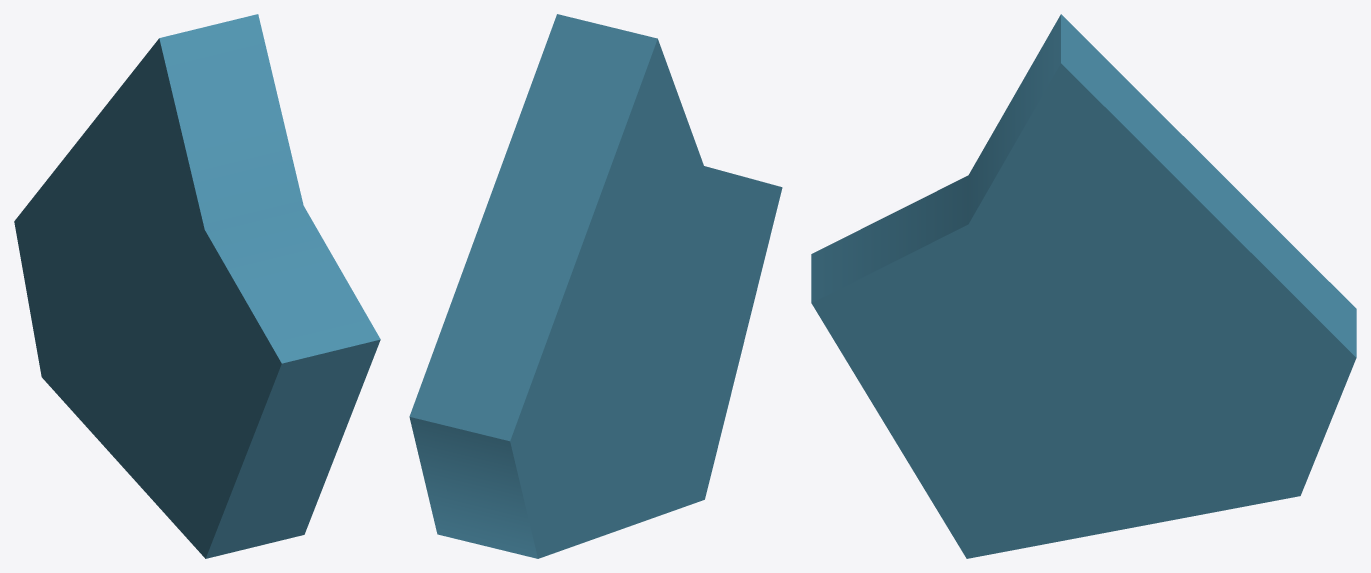
The model's file is NexusC_Trigger_4.fbx.
3 renders of one model, left to right at view 1: azimuth 30°, elevation 25°; view 2: azimuth 150°, elevation 25°; view 3: azimuth 270°, elevation 25°, orthographic.
Parts seen in each view (by area): view 1: polySurface64; view 2: polySurface64; view 3: polySurface64.
Boxes of the visible parts, x1,y1,x2,y2 form: polySurface64: (14, 14, 380, 558); polySurface64: (409, 14, 782, 558); polySurface64: (811, 14, 1356, 558).
Bounding box in the file's own units: 9.22 × 43.36 × 43.2.
